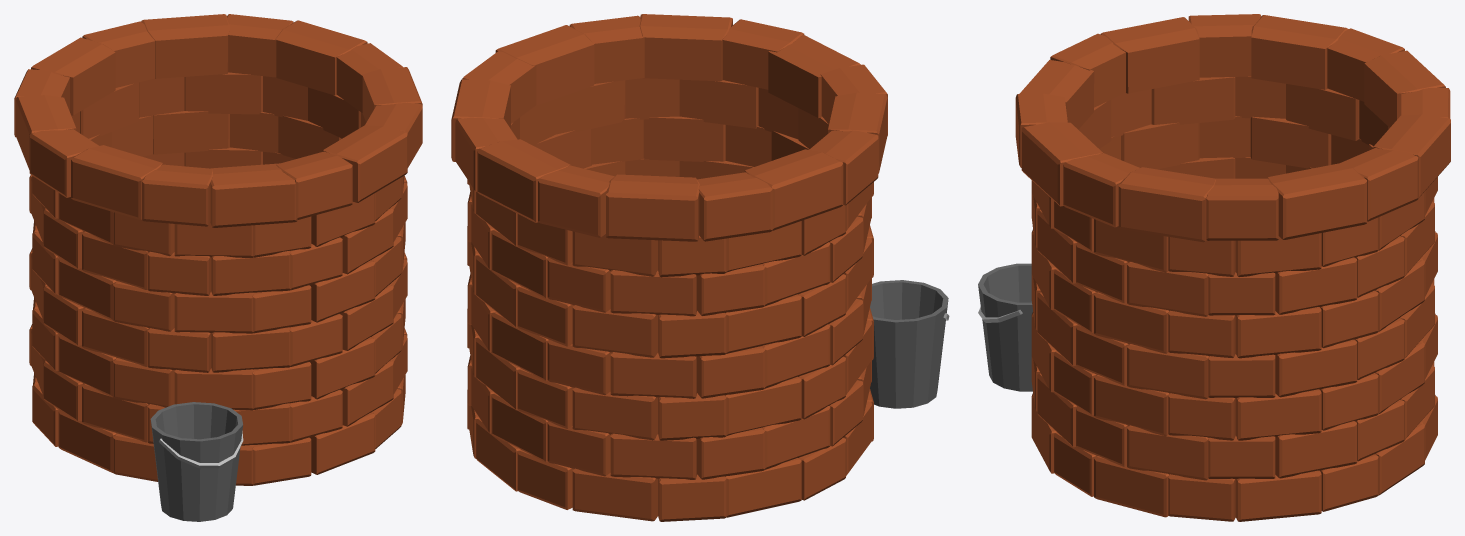
Rendered from Pozo.fbx.
3 renders of one model, left to right at view 1: azimuth 30°, elevation 25°; view 2: azimuth 150°, elevation 25°; view 3: azimuth 270°, elevation 25°, orthographic. The views are drawn at different scales.
Visible parts, largest first — view 1: Cylinder.002; view 2: Cylinder.002; view 3: Cylinder.002.
Part boxes in pixels (left/top/right/bottom): Cylinder.002: left=14, top=14, right=422, bottom=521; Cylinder.002: left=451, top=14, right=949, bottom=521; Cylinder.002: left=978, top=14, right=1450, bottom=521.
Bounding box in the file's own units: 125 × 105 × 135.
